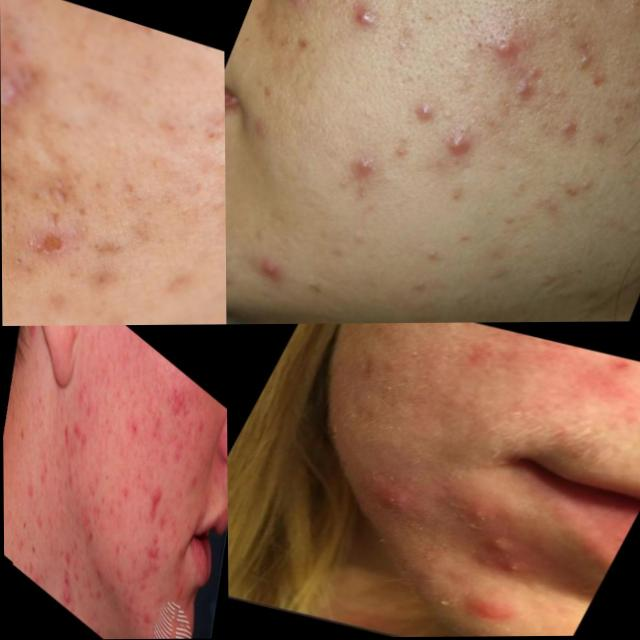8: (227, 237, 302, 300), (328, 135, 386, 199), (495, 67, 547, 122), (435, 490, 495, 530), (396, 89, 444, 128), (478, 530, 530, 559), (487, 558, 528, 587), (172, 538, 186, 578), (67, 416, 81, 444), (195, 411, 206, 443), (149, 544, 158, 568), (188, 474, 196, 500)
9: (328, 0, 386, 50), (433, 125, 477, 177), (56, 580, 73, 608), (117, 475, 129, 509), (130, 414, 140, 442), (176, 390, 183, 410)
blackheads: (0, 57, 44, 120), (148, 474, 165, 532)
pustules: (451, 586, 522, 633), (362, 477, 419, 513)
